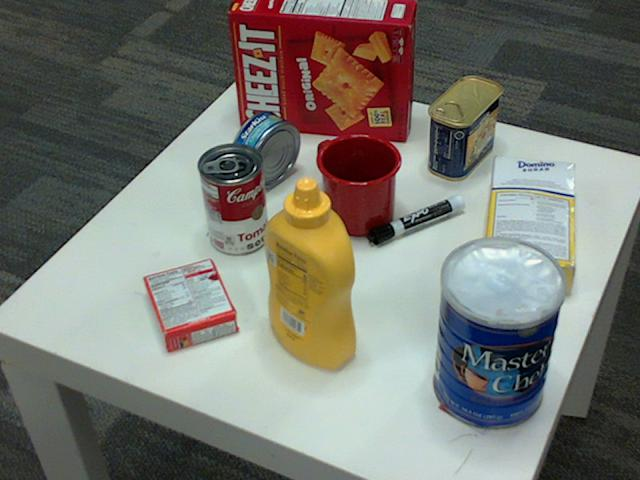cracker_box: (230, 0, 416, 140)
gelatin_box: (139, 257, 234, 351)
large_marker: (368, 198, 465, 244)
master_chef_can: (435, 238, 569, 431)
mug: (314, 132, 401, 235)
mustard_bottle: (264, 178, 355, 369)
potted_meat_can: (426, 77, 500, 181)
sugar_box: (479, 155, 574, 297)
tomato_soup_can: (198, 143, 268, 255)
tuna_fish_can: (229, 110, 299, 188)
